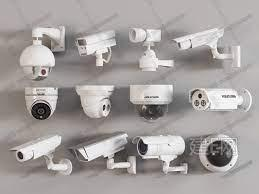maru: (20, 20, 71, 83), (23, 85, 63, 124)
tutu: (198, 135, 240, 177), (12, 135, 65, 166), (73, 135, 131, 163), (132, 134, 189, 162), (126, 98, 177, 126), (188, 86, 239, 114), (173, 26, 225, 53), (76, 29, 118, 57), (76, 96, 116, 123), (129, 25, 163, 48)
